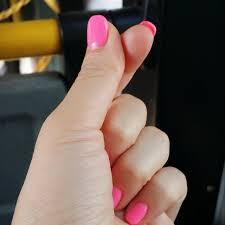heart gesture: (71, 13, 159, 94)
